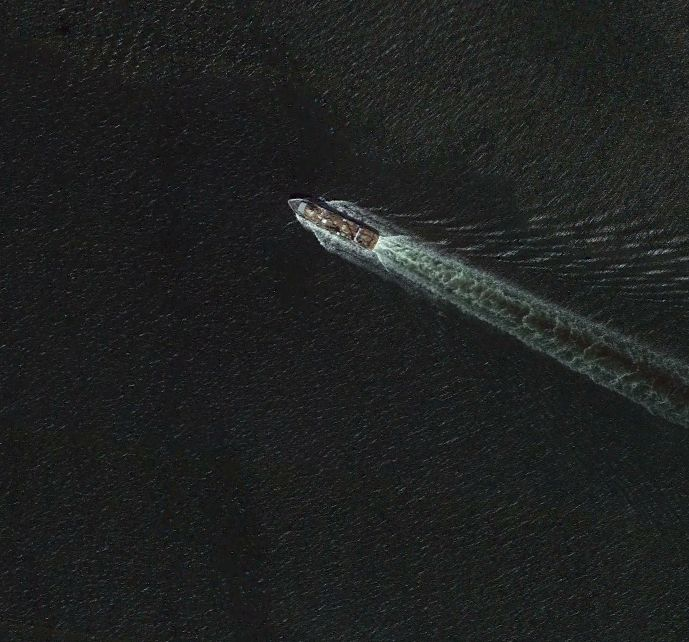boat: (282, 192, 381, 252)
